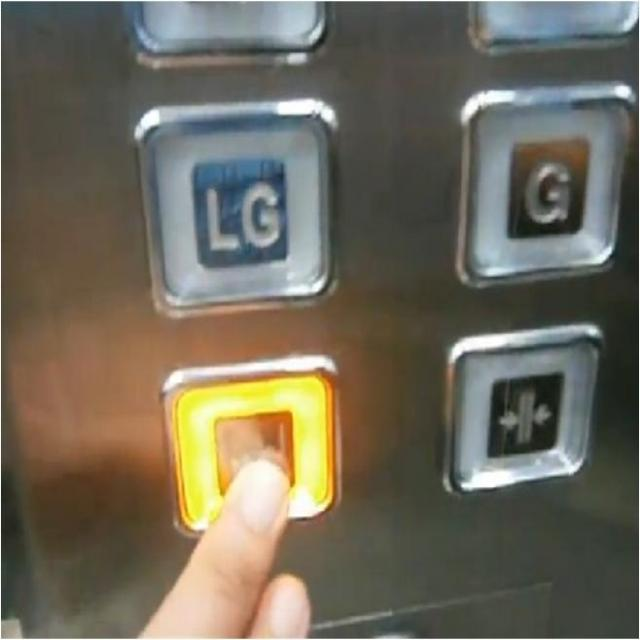G: (454, 81, 637, 286)
LG: (132, 96, 338, 318)
close: (441, 320, 602, 496)
unknown: (157, 355, 344, 539)
